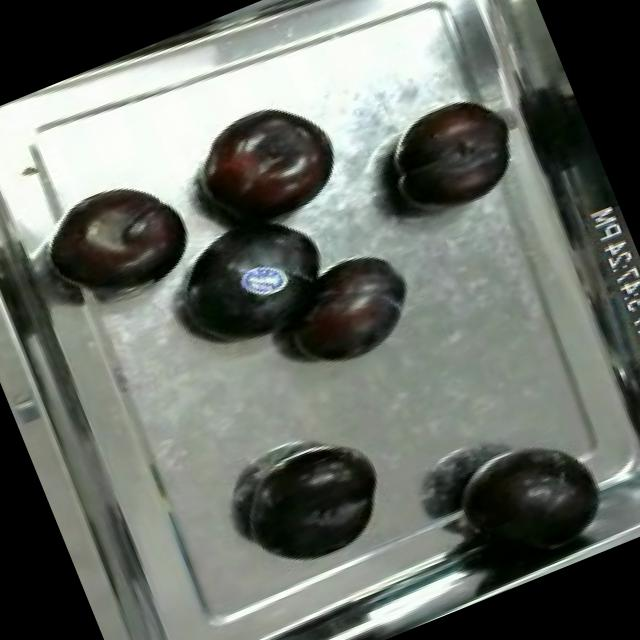Fruit: (155, 189, 351, 369), (440, 418, 618, 582), (180, 86, 354, 245), (31, 160, 206, 318), (225, 426, 401, 582), (369, 82, 532, 230), (267, 236, 431, 382)
